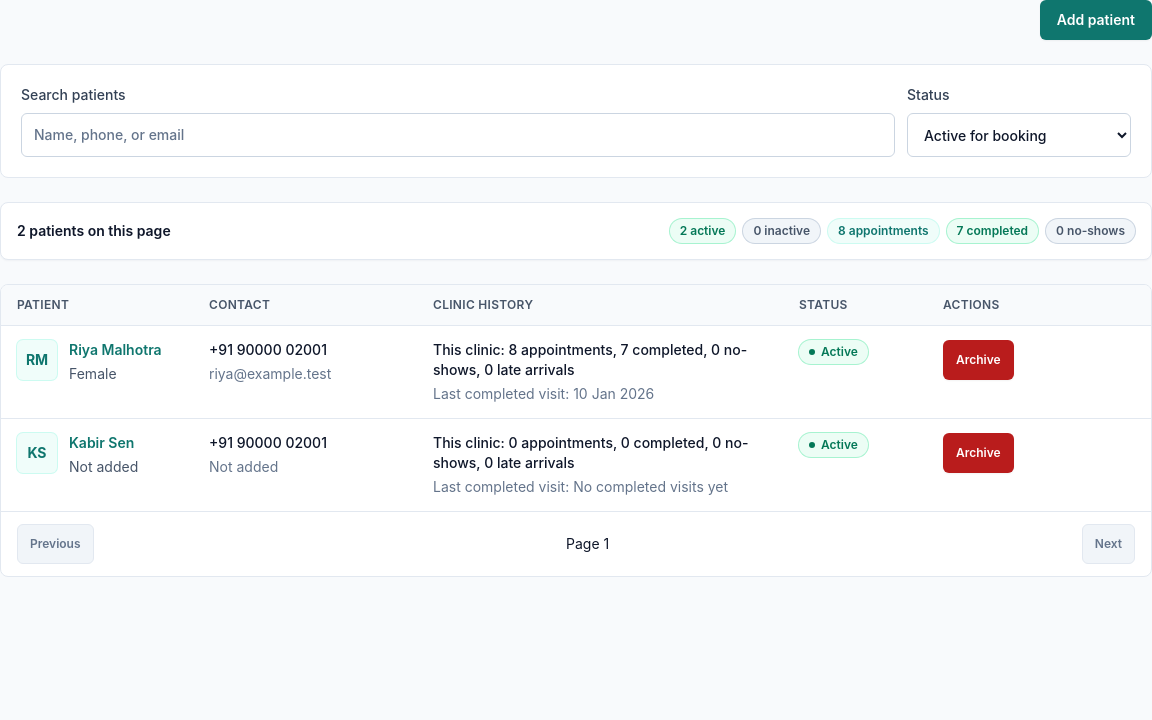
it: PatientsPage edit workflow › shows edit actions, opens pre-filled values, handles nullable values, and cancels
The width and height of the screenshot is (1152, 720).
Expected: the button with aria-label "view profile for riya malhotra" is shown, [69,340,162,360]
Expected: the text "This clinic: 8 appointments, 7 completed, 0 no-shows, 0 late arrivals" is shown, [433,340,767,380]
Click the button with aria-label "view profile for kabir sen": (102, 443) [69,433,134,453]
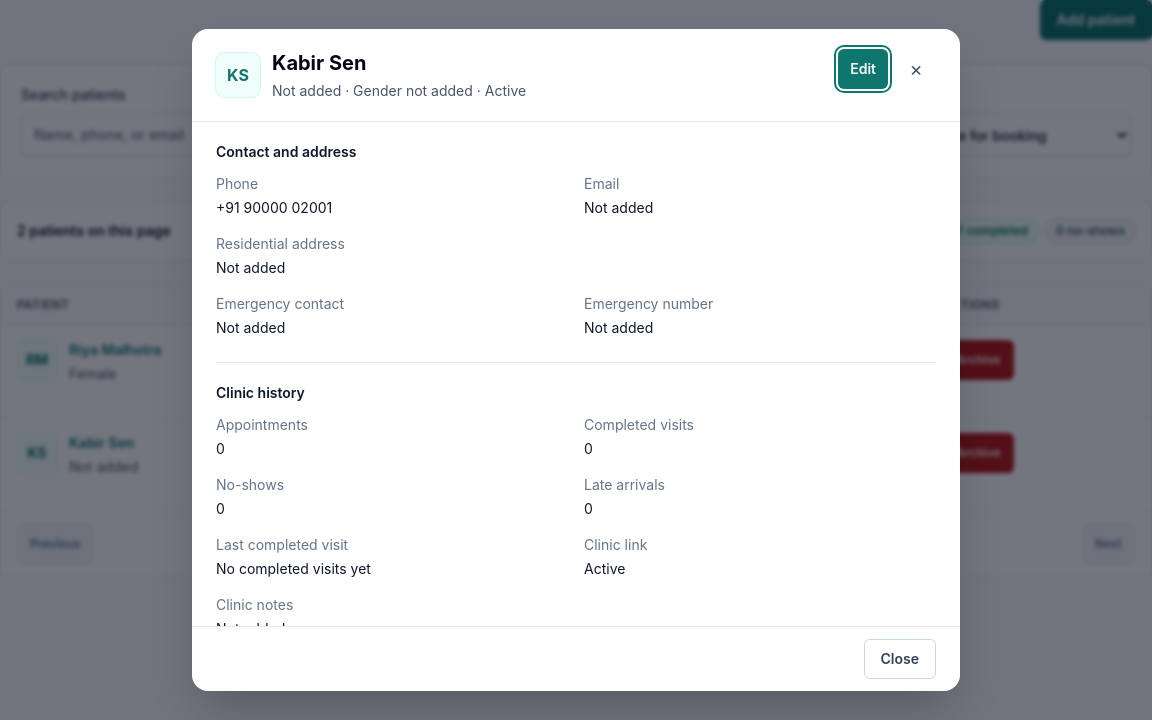
Now the heading "Kabir Sen" is shown, box [272,51,366,75]
Click the button "Edit": (863, 69) [838,49,888,89]
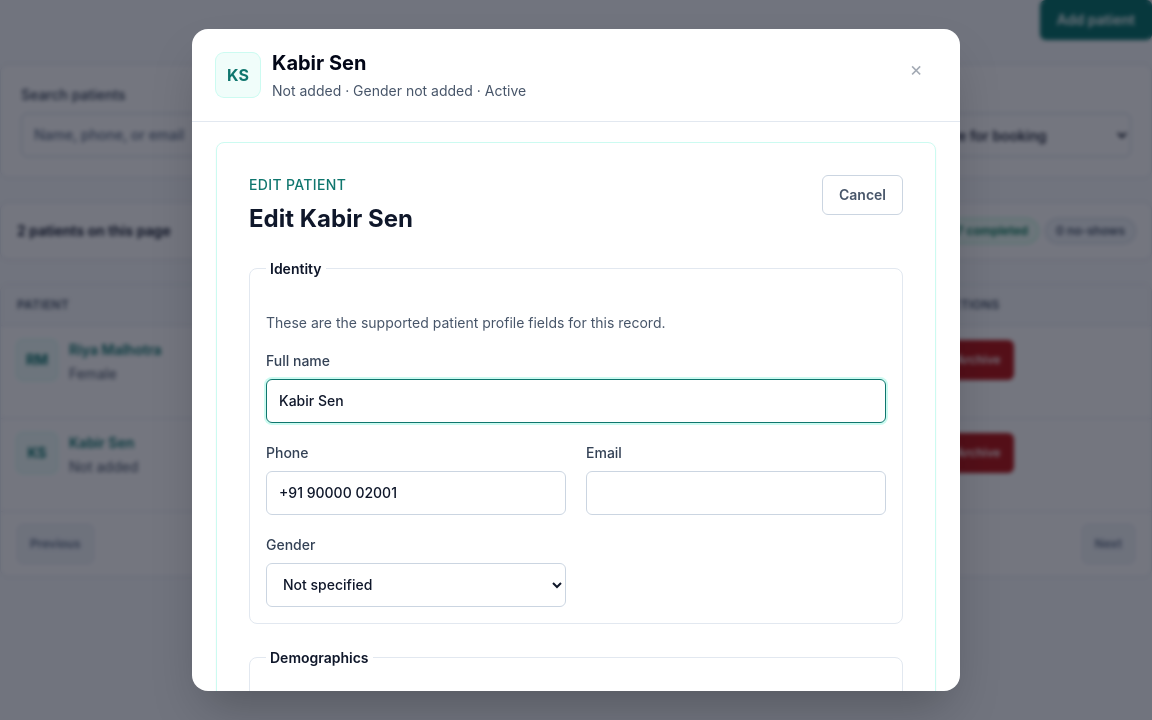
Now the heading "Edit Kabir Sen" is shown, box [249,203,413,235]
Now the field labelled "Full name" holds "Kabir Sen", box [266,379,886,423]
Now the field labelled "Email" is empty, box [586,471,886,515]
Click the button "Cancel": (862, 195) [822,175,903,215]
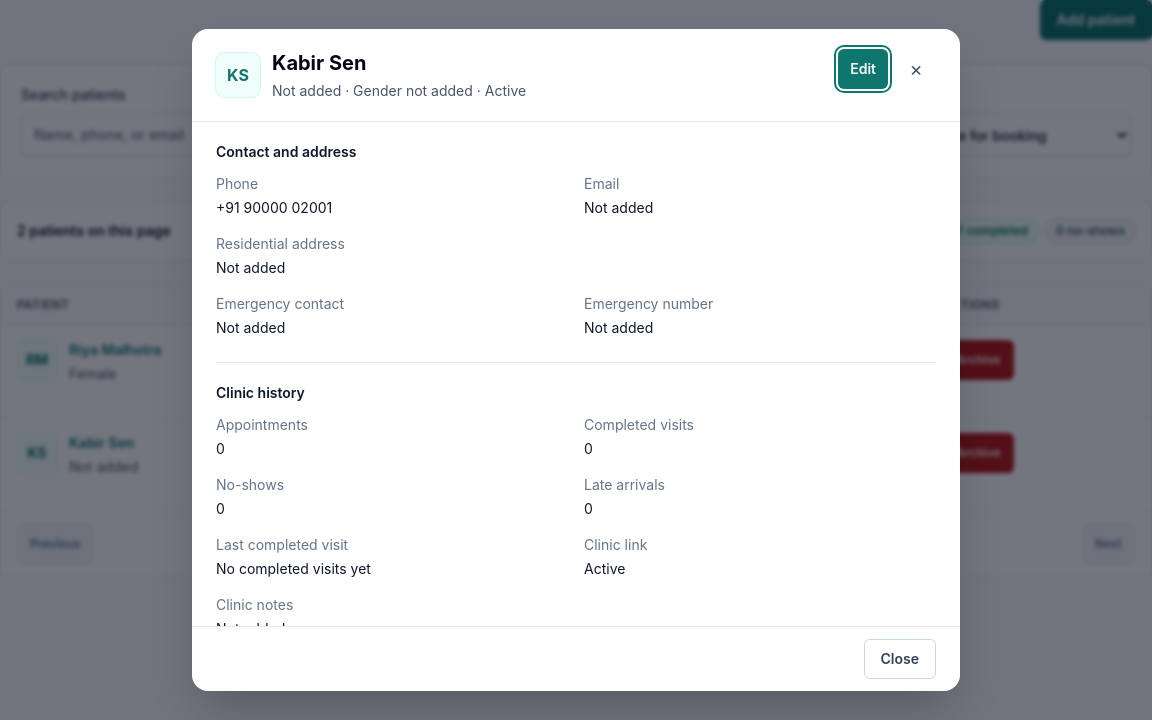
Now the heading "Edit Kabir Sen" is gone
